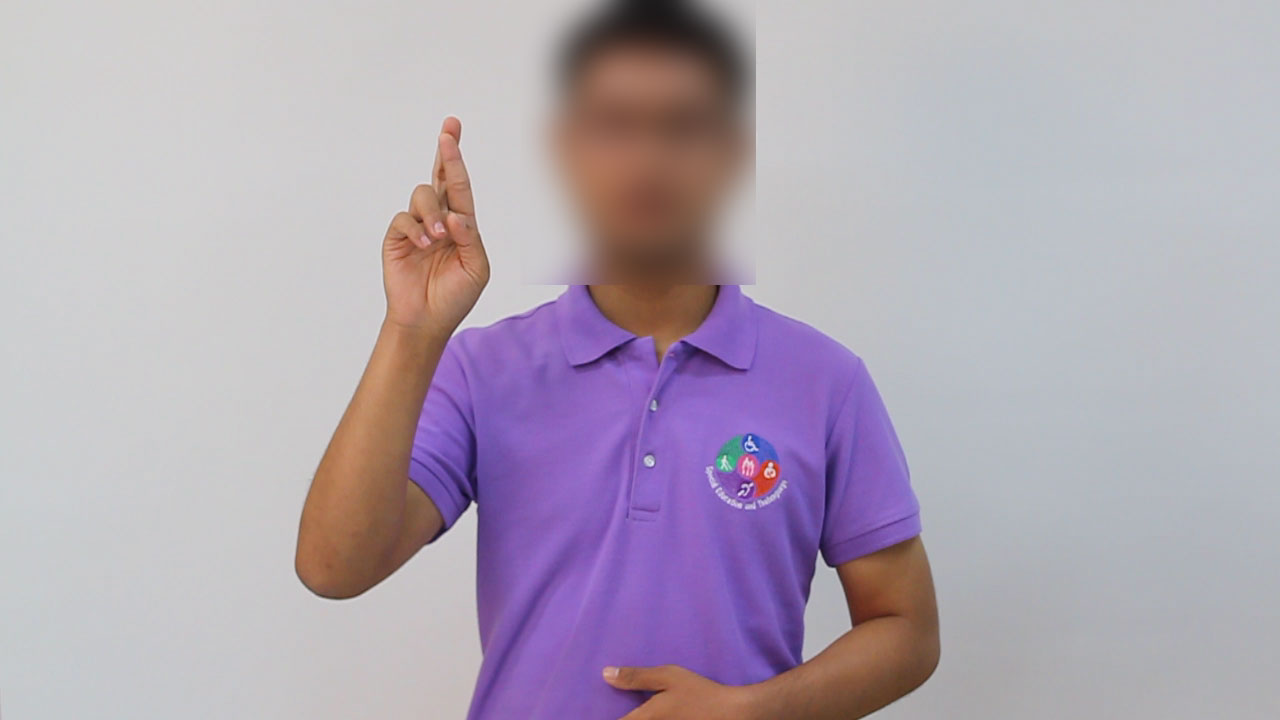rao: (358, 112, 499, 377)
